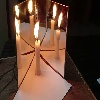fire: (34, 18, 41, 43)
